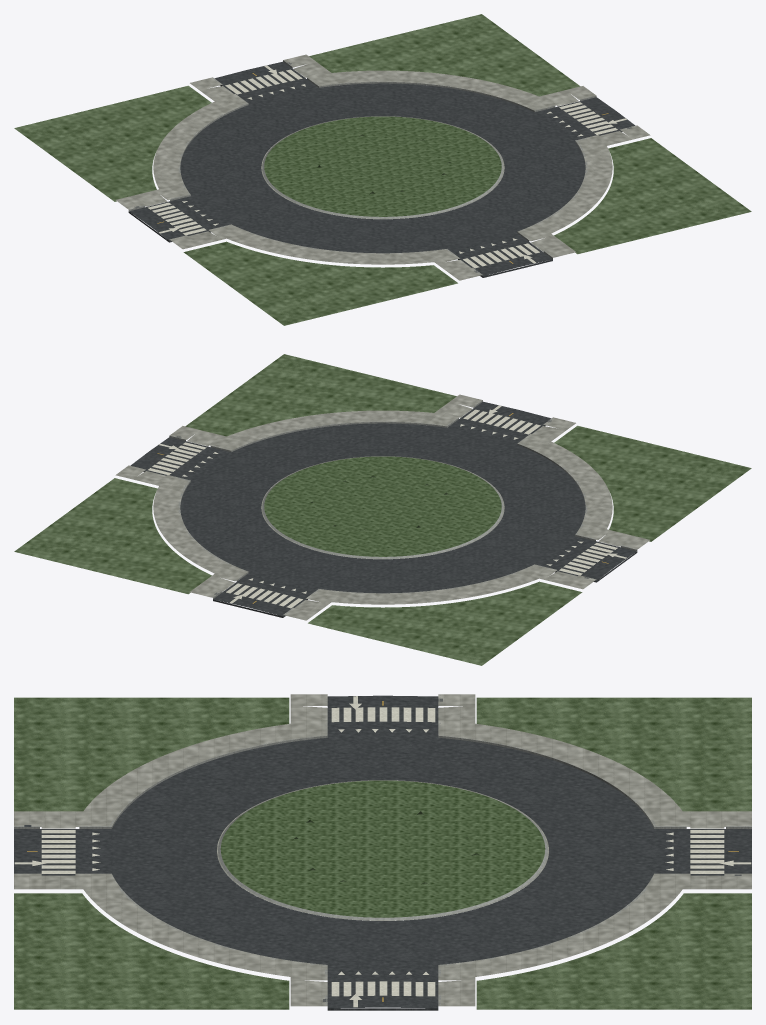
3 views of the same model, one above another, from view 1: azimuth 30°, elevation 25°; view 2: azimuth 150°, elevation 25°; view 3: azimuth 270°, elevation 25° (orthographic). The views are drawn at different scales.
Visible parts, largest first — view 1: VIS_Terrain_Infill, VIS_Asphalt_Deck, VIS_Raised_Island_Soil, VIS_Sidewalk_Pavers, VIS_Crosswalk_Stripes, VIS_Accessible_Corner_Ramps, VIS_Curb_Edge, VIS_Island_Stone_Curb; view 2: VIS_Terrain_Infill, VIS_Asphalt_Deck, VIS_Raised_Island_Soil, VIS_Sidewalk_Pavers, VIS_Crosswalk_Stripes, VIS_Accessible_Corner_Ramps, VIS_Curb_Edge, VIS_Island_Stone_Curb; view 3: VIS_Terrain_Infill, VIS_Asphalt_Deck, VIS_Raised_Island_Soil, VIS_Sidewalk_Pavers, VIS_Crosswalk_Stripes, VIS_Accessible_Corner_Ramps, VIS_Curb_Edge, VIS_Island_Stone_Curb.
Part boxes in pixels (x1,y1,x2,y2): VIS_Terrain_Infill: (14,14,751,325); VIS_Asphalt_Deck: (128,61,635,277); VIS_Raised_Island_Soil: (264,116,501,216); VIS_Sidewalk_Pavers: (116,54,650,280); VIS_Crosswalk_Stripes: (148,69,617,268); VIS_Accessible_Corner_Ramps: (137,64,628,271); VIS_Curb_Edge: (128,60,636,275); VIS_Island_Stone_Curb: (262,126,503,219); VIS_Terrain_Infill: (14,354,751,665); VIS_Asphalt_Deck: (130,401,637,617); VIS_Raised_Island_Soil: (264,456,501,556); VIS_Sidewalk_Pavers: (115,394,649,620); VIS_Crosswalk_Stripes: (148,409,617,608); VIS_Accessible_Corner_Ramps: (137,404,628,611); VIS_Curb_Edge: (169,400,637,615); VIS_Island_Stone_Curb: (262,466,503,559); VIS_Terrain_Infill: (14,697,751,1009); VIS_Asphalt_Deck: (14,695,751,1010); VIS_Raised_Island_Soil: (220,780,545,917); VIS_Sidewalk_Pavers: (14,694,751,1006); VIS_Crosswalk_Stripes: (41,707,724,996); VIS_Accessible_Corner_Ramps: (41,706,724,994); VIS_Curb_Edge: (14,695,751,1006); VIS_Island_Stone_Curb: (218,791,547,920).
Size of the model in its own units: 48 by 0.755 by 48.
Materials: 8 (8 with a texture image).
